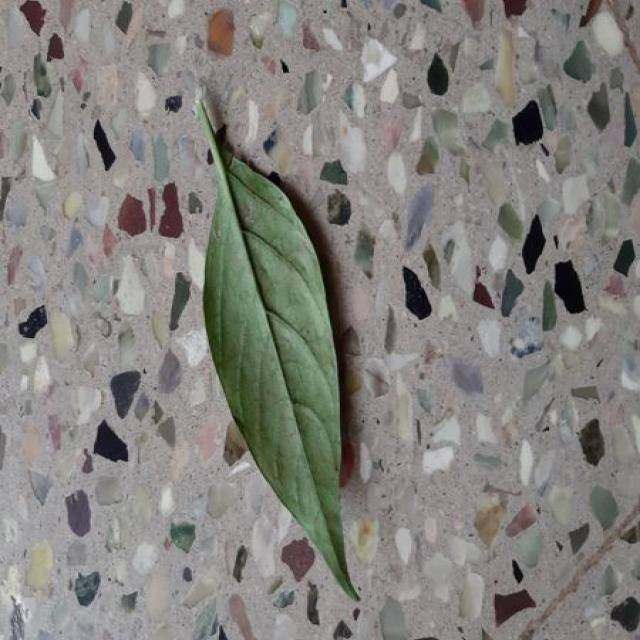chilly: (197, 102, 358, 599)
